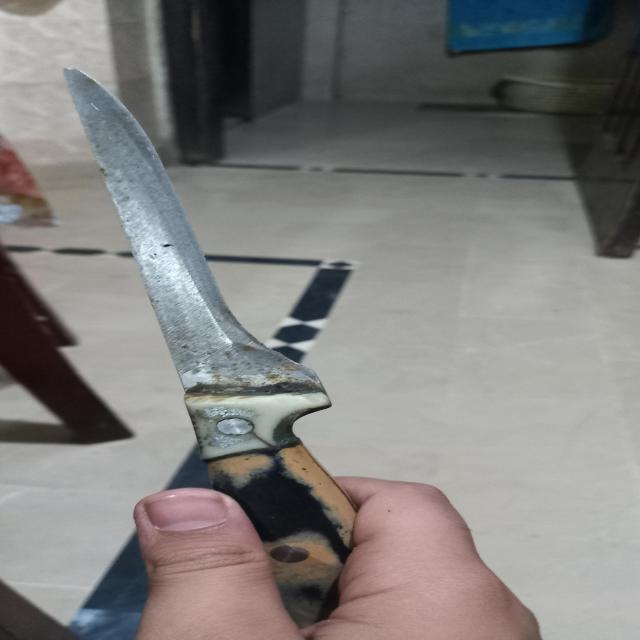Knife: (61, 69, 354, 631)
Person: (134, 474, 542, 640)
